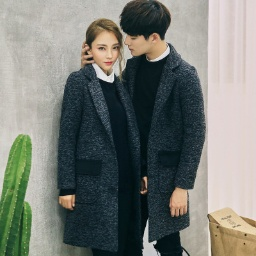face: (120, 1, 171, 55), (84, 17, 123, 70)
